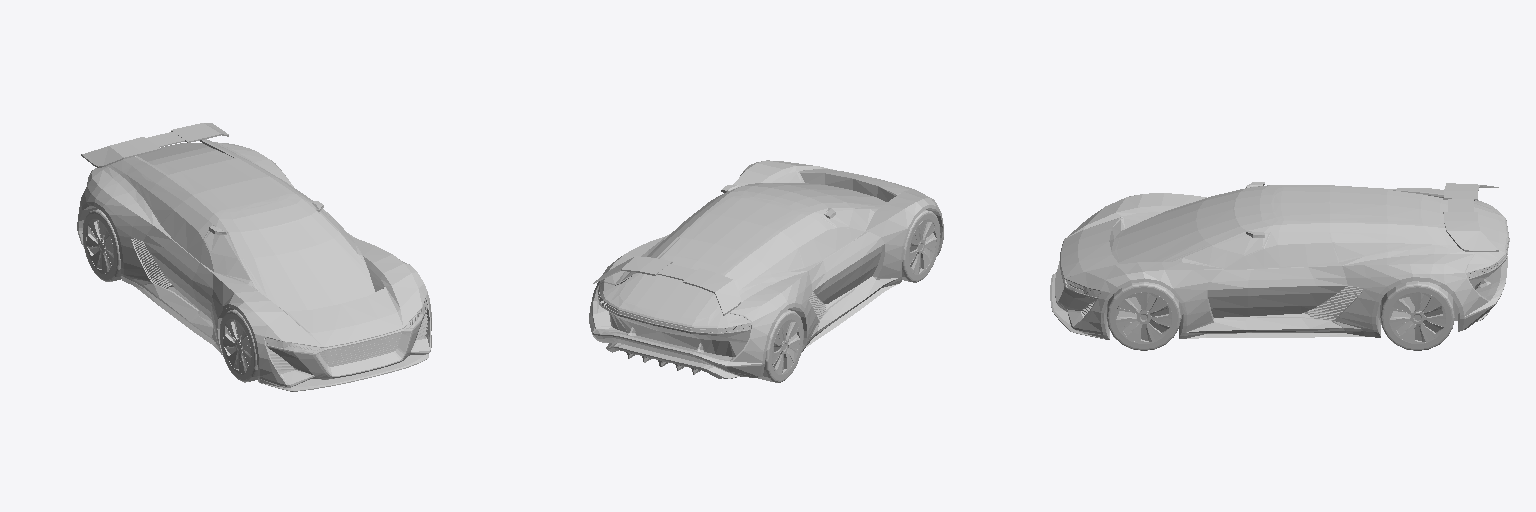
File: audi.obj
3 views of the same model, side by side, from view 1: azimuth 30°, elevation 25°; view 2: azimuth 150°, elevation 25°; view 3: azimuth 270°, elevation 25° (orthographic).
Visible parts, largest first — view 1: audi; view 2: audi; view 3: audi.
Part boxes in pixels (left/top/right/bottom): audi: left=77, top=123, right=431, bottom=391; audi: left=589, top=160, right=943, bottom=382; audi: left=1050, top=182, right=1509, bottom=350.
Bounding box in the file's own units: 3.13 × 1.83 × 7.1.